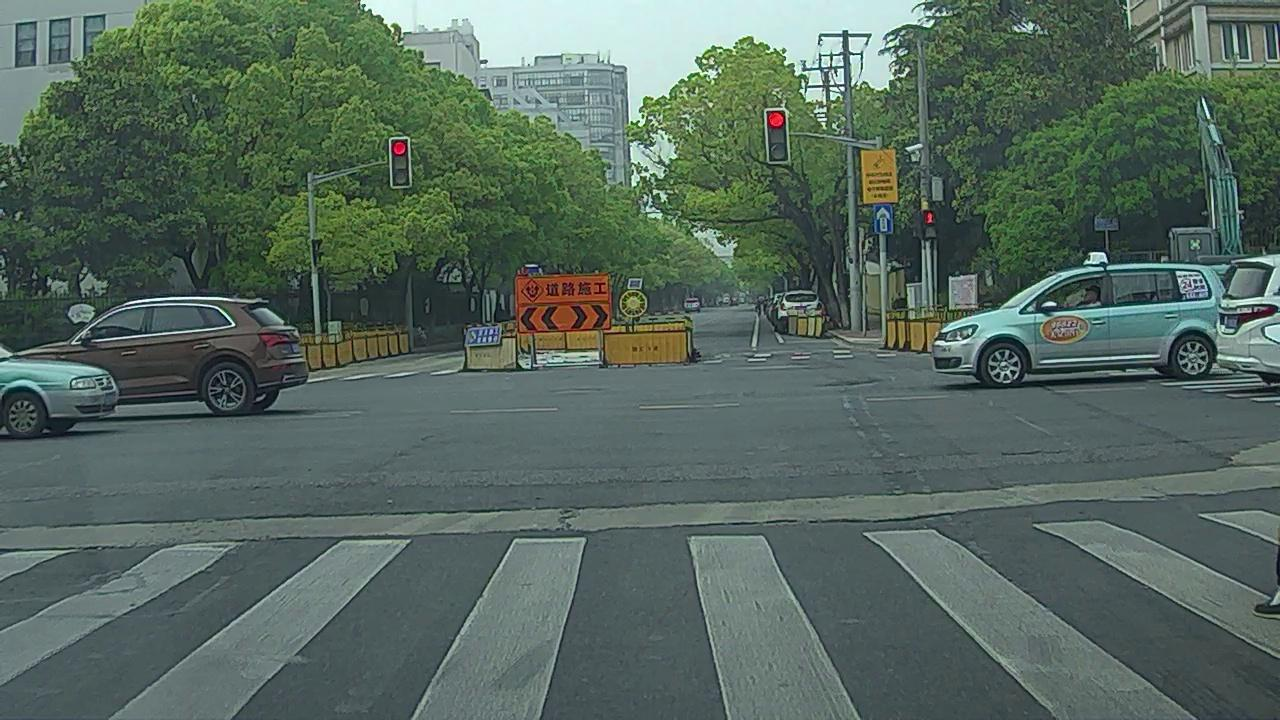traffic_light: (766, 110, 789, 162), (389, 138, 410, 188)
